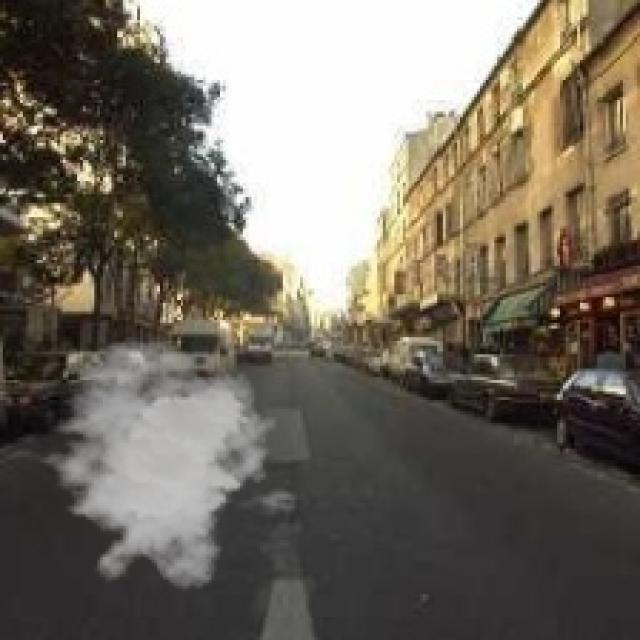Smoke: (29, 337, 278, 592)
